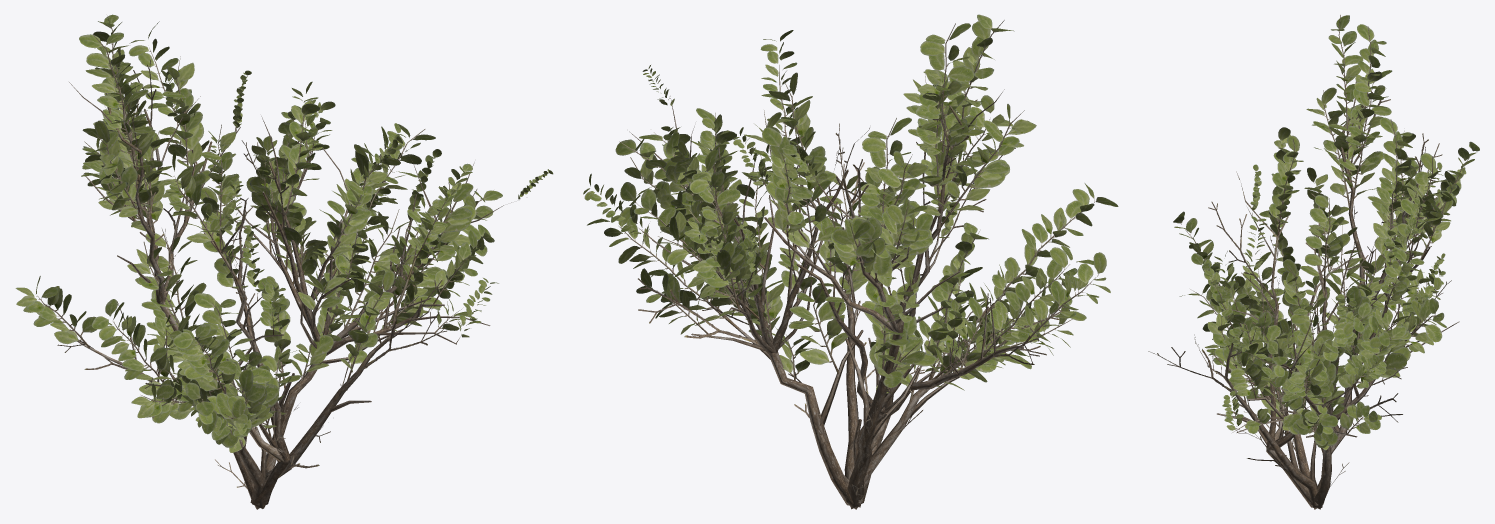
Rendered from struik_klein.gltf.
The picture shows the model from 3 angles, left to right: view 1: azimuth 30°, elevation 25°; view 2: azimuth 150°, elevation 25°; view 3: azimuth 270°, elevation 25°; orthographic projection. The views are drawn at different scales.
Parts seen in each view (by area): view 1: searsia_lucida_e_LOD0; view 2: searsia_lucida_e_LOD0; view 3: searsia_lucida_e_LOD0.
Boxes of the visible parts, box(x1,y1,x2,y2) form: searsia_lucida_e_LOD0: box(15, 14, 553, 509); searsia_lucida_e_LOD0: box(583, 14, 1118, 509); searsia_lucida_e_LOD0: box(1148, 15, 1479, 509).
Size of the model in its own units: 1.03 by 1.02 by 0.7158.
2 materials, 2 textured.
